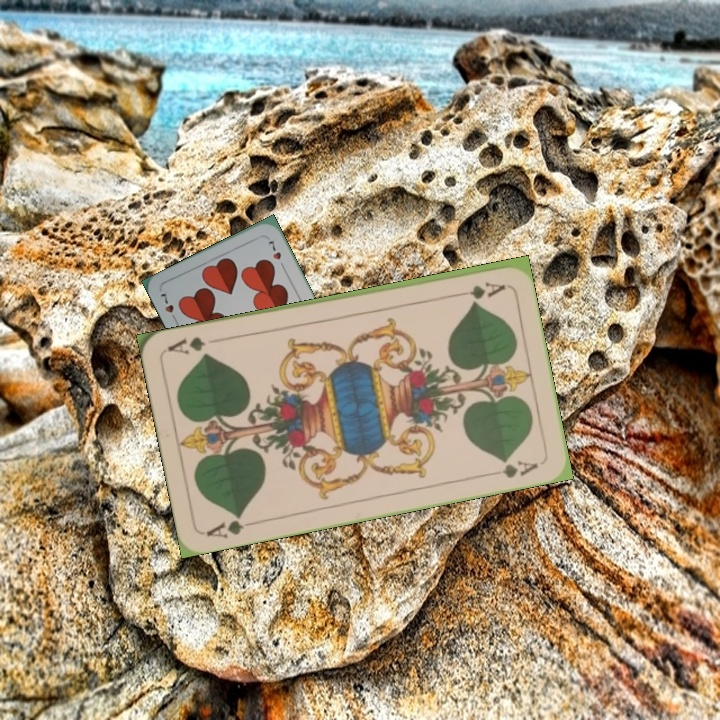GA: (202, 510, 260, 541), (449, 277, 508, 301)
H7: (156, 289, 180, 325)
